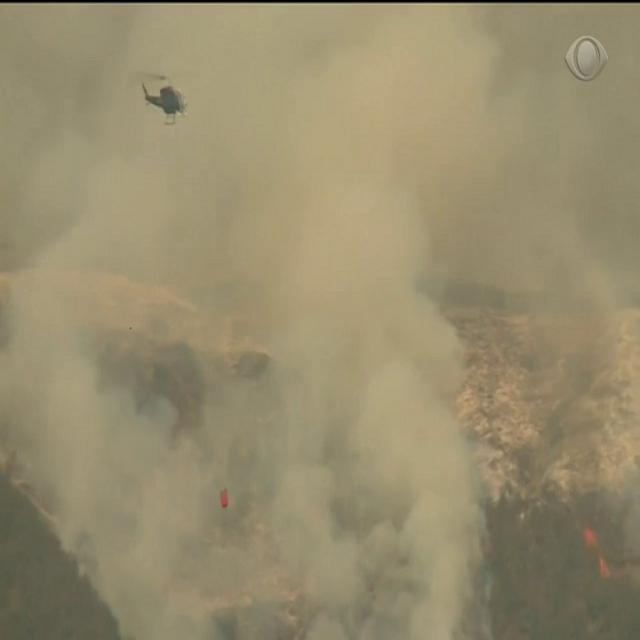Smoke: (250, 56, 500, 627), (10, 217, 218, 625)
